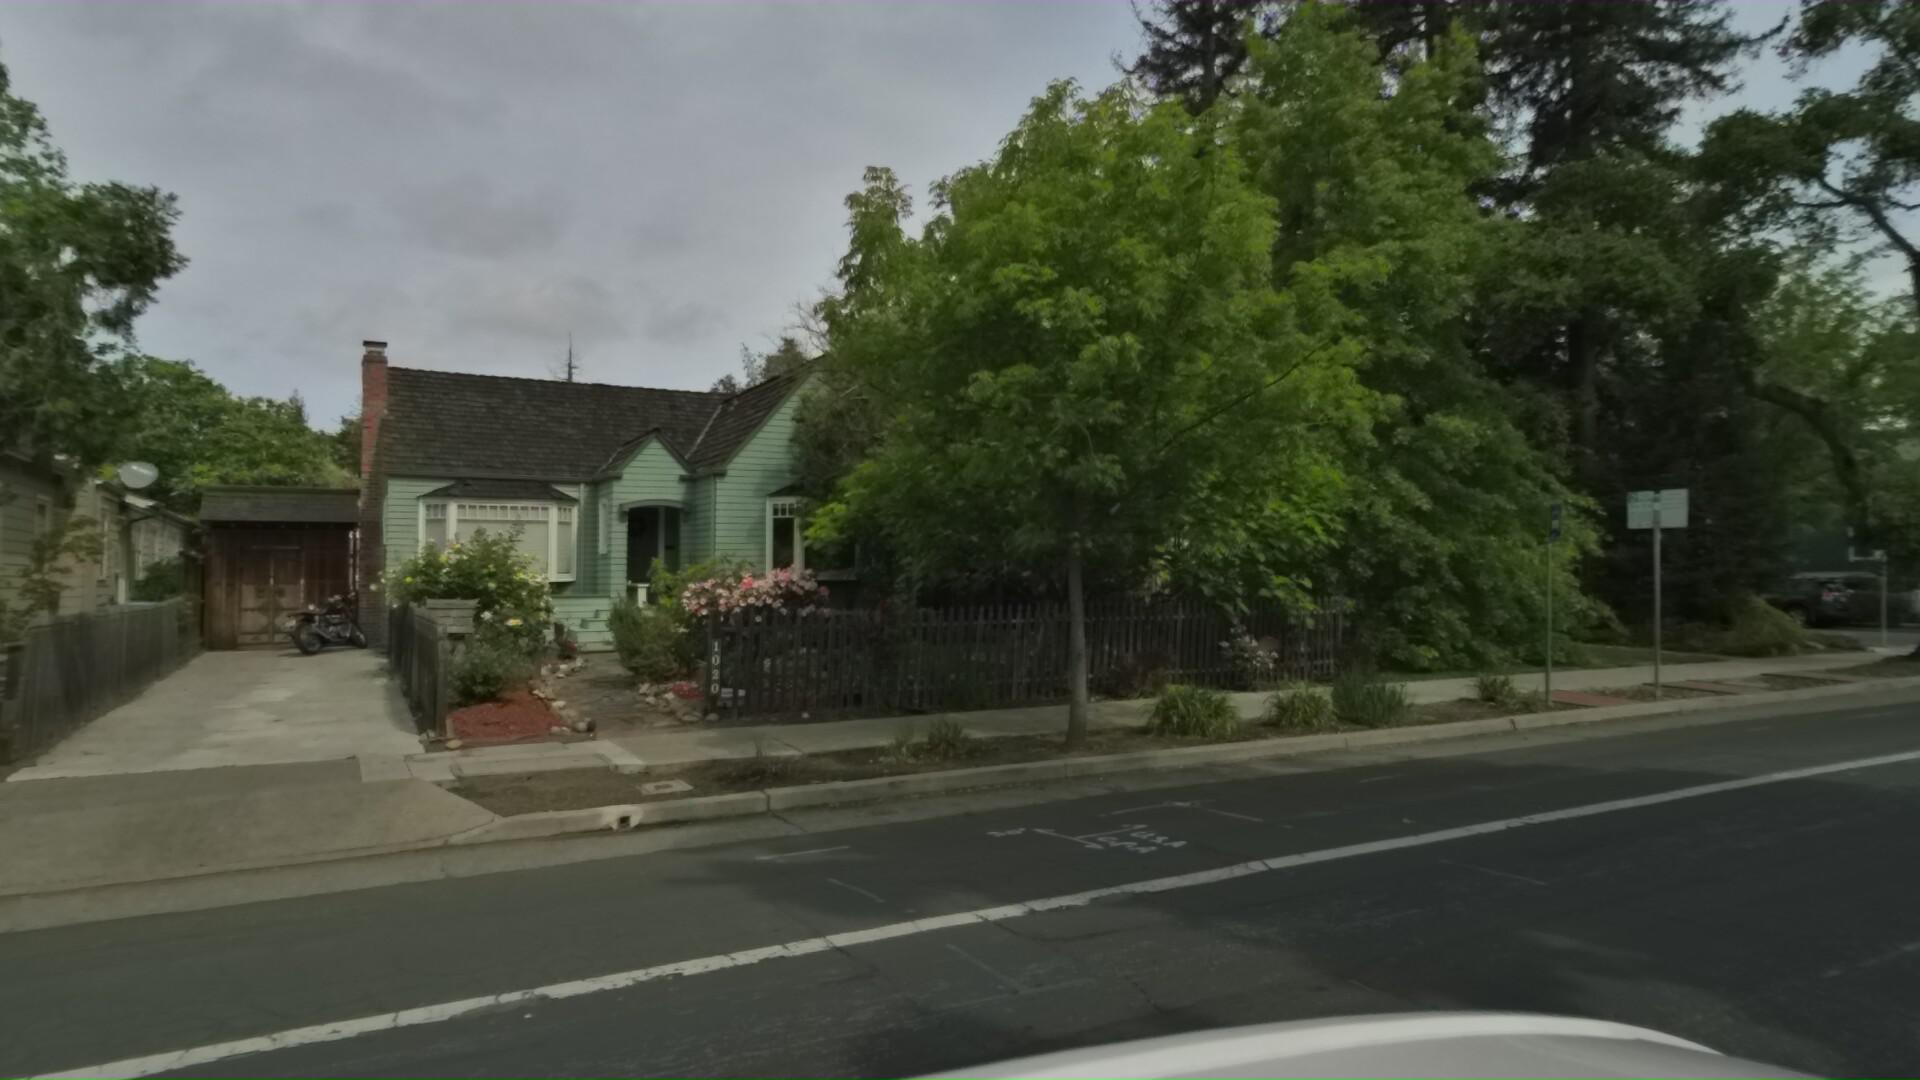car: (1672, 575, 1855, 636)
motorcycle: (243, 589, 352, 659)
